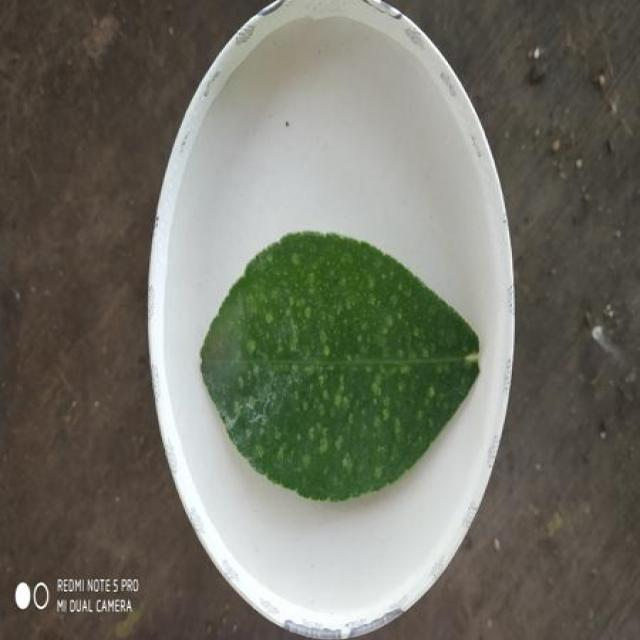Citrus greasy spot: (202, 231, 478, 501)
citron lime: (202, 231, 478, 501)
